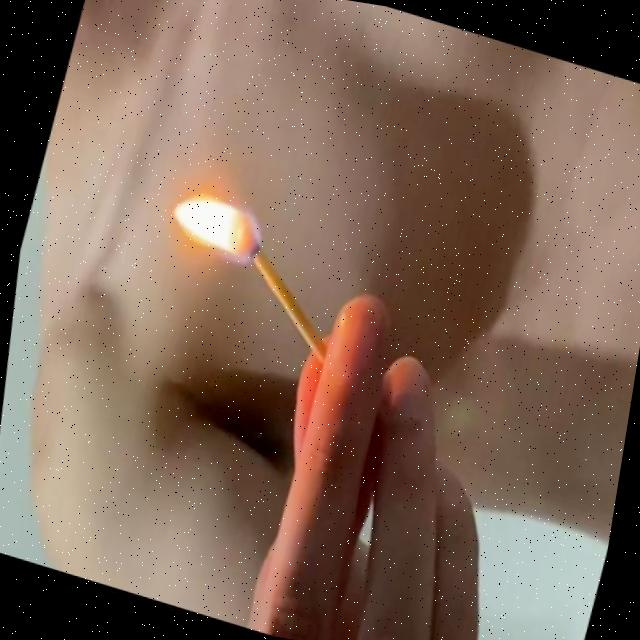fire: (153, 180, 275, 271)
